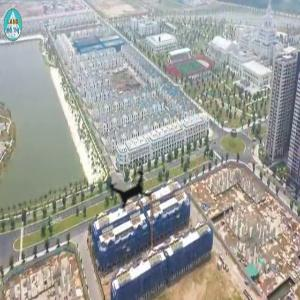drone: (83, 142, 179, 238)
